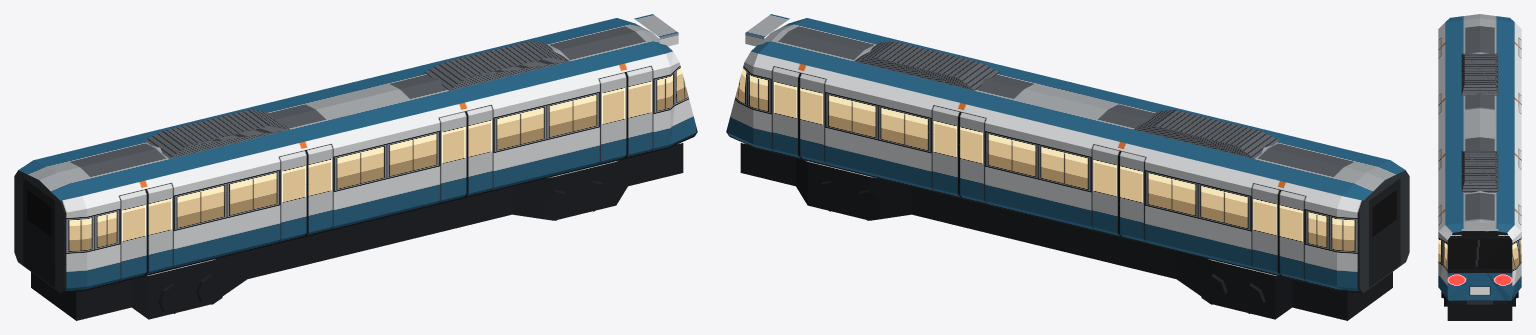
File: paris_mf77__neutral__tail.glb
The picture shows the model from 3 angles, left to right: view 1: azimuth 30°, elevation 25°; view 2: azimuth 150°, elevation 25°; view 3: azimuth 270°, elevation 25°; orthographic projection. The views are drawn at different scales.
Visible parts, largest first — view 1: paris_mf77__neutral__tail; view 2: paris_mf77__neutral__tail; view 3: paris_mf77__neutral__tail.
Boxes of the visible parts, x1,y1,x2,y2 form: paris_mf77__neutral__tail: [14, 14, 697, 320]; paris_mf77__neutral__tail: [726, 14, 1409, 320]; paris_mf77__neutral__tail: [1438, 14, 1521, 320].
Bounding box in the file's own units: 15.49 × 3.49 × 2.46.
Materials: 1 (1 with a texture image).
